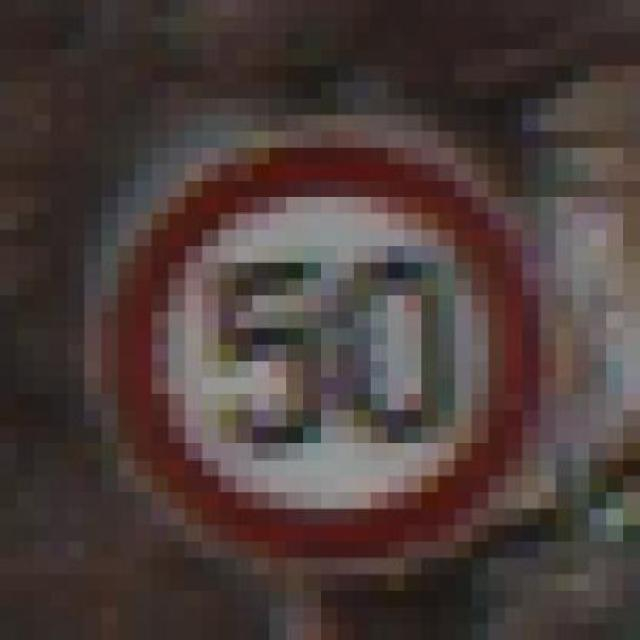50 mph speed limit: (101, 115, 573, 574)
